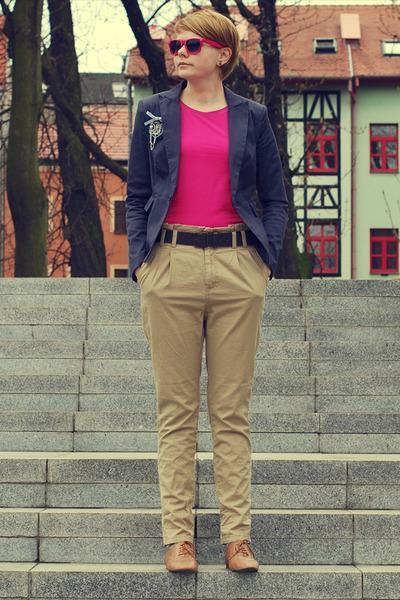jacket: (122, 83, 290, 274)
short sleeve shirt: (156, 102, 245, 237)
trousers: (136, 219, 273, 545)
